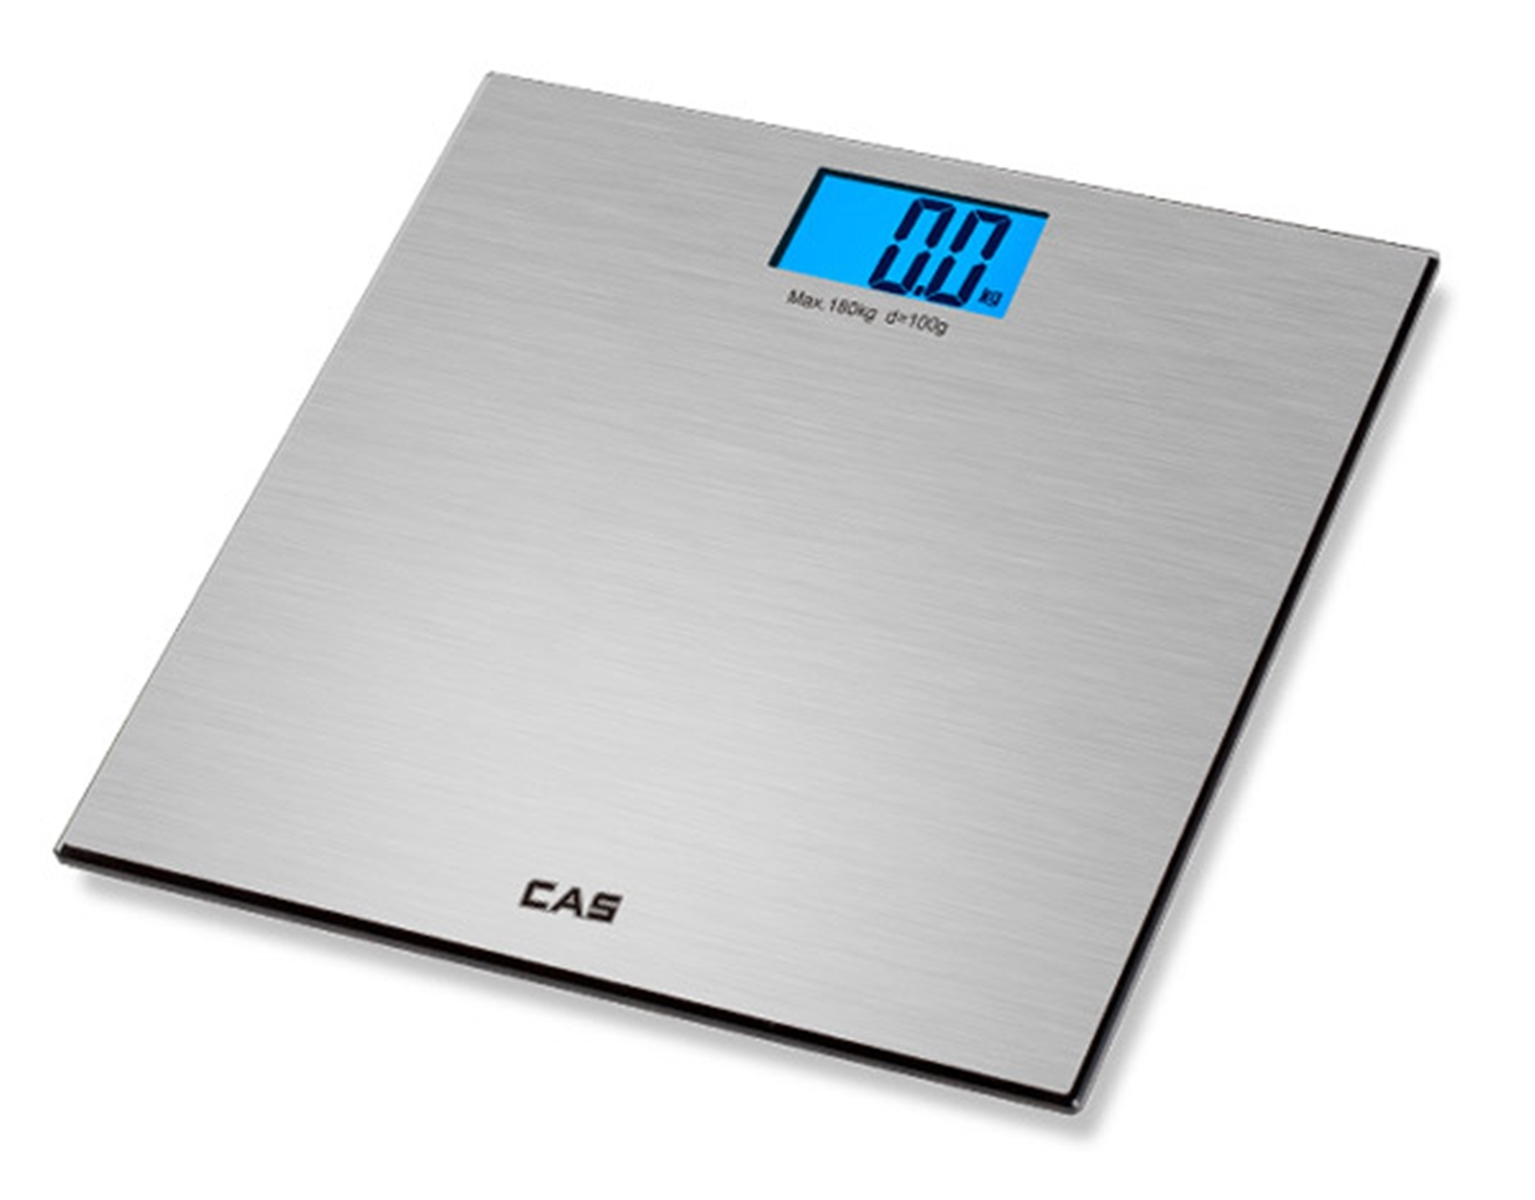LCD: (771, 163, 1050, 321)
